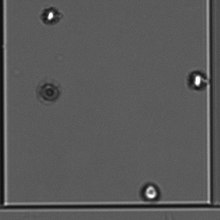Dead Cell: (37, 79, 58, 105)
Living Cell: (36, 3, 67, 33), (183, 63, 206, 96), (141, 177, 161, 200)
